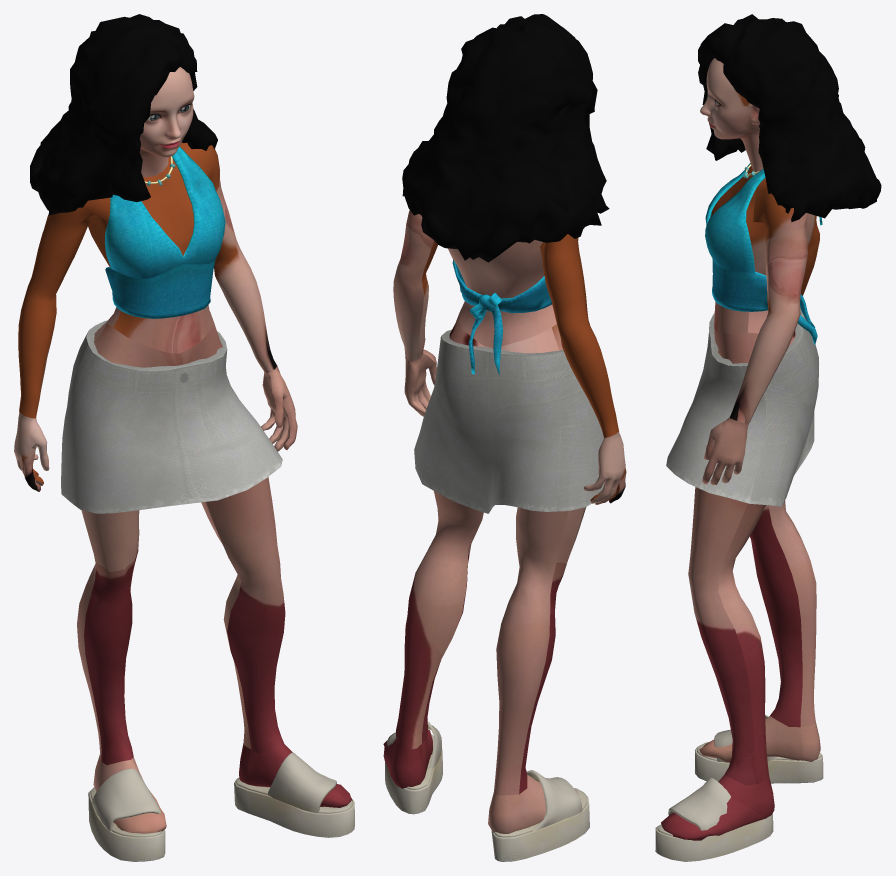
File: Npc Vestido 1.fbx
3 renders of one model, left to right at view 1: azimuth 30°, elevation 25°; view 2: azimuth 150°, elevation 25°; view 3: azimuth 270°, elevation 25°, orthographic. The views are drawn at different scales.
Parts seen in each view (by area): view 1: Wolf3D_Body.001, Wolf3D_Outfit_Bottom.001, Wolf3D_Hair.001, Wolf3D_Outfit_Top.001, Wolf3D_Outfit_Footwear.001, Wolf3D_Head.001; view 2: Wolf3D_Body.001, Wolf3D_Hair.001, Wolf3D_Outfit_Bottom.001, Wolf3D_Outfit_Footwear.001, Wolf3D_Outfit_Top.001; view 3: Wolf3D_Body.001, Wolf3D_Hair.001, Wolf3D_Outfit_Bottom.001, Wolf3D_Outfit_Footwear.001, Wolf3D_Outfit_Top.001, Wolf3D_Head.001.
Part boxes in pixels (x1,y1,x2,y2): Wolf3D_Body.001: (14,142,352,833); Wolf3D_Outfit_Bottom.001: (61,320,282,513); Wolf3D_Hair.001: (30,14,217,215); Wolf3D_Outfit_Top.001: (105,146,225,318); Wolf3D_Outfit_Footwear.001: (88,752,354,861); Wolf3D_Head.001: (139,67,194,177); Wolf3D_Body.001: (383,210,626,833); Wolf3D_Hair.001: (402,14,609,262); Wolf3D_Outfit_Bottom.001: (414,329,603,513); Wolf3D_Outfit_Footwear.001: (385,721,589,861); Wolf3D_Outfit_Top.001: (452,259,551,375); Wolf3D_Body.001: (661,166,820,840); Wolf3D_Hair.001: (698,14,881,221); Wolf3D_Outfit_Bottom.001: (666,306,819,506); Wolf3D_Outfit_Footwear.001: (655,715,823,861); Wolf3D_Outfit_Top.001: (705,163,822,344); Wolf3D_Head.001: (700,58,763,171).
Size of the model in its own units: 65.16 by 179 by 48.14.
7 materials, 7 textured.
